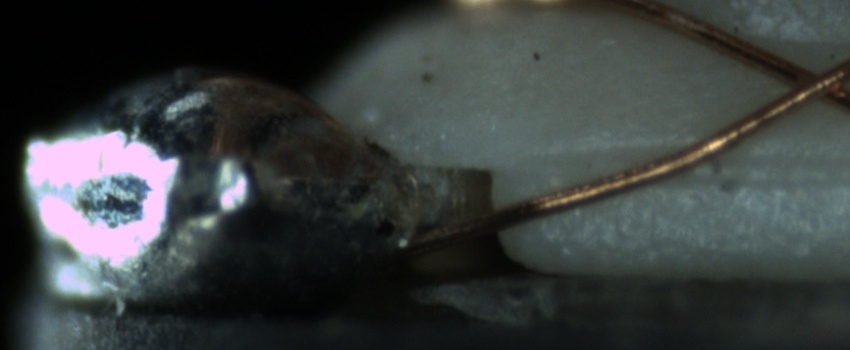CL: (762, 49, 848, 116)
DL: (550, 127, 847, 202)
